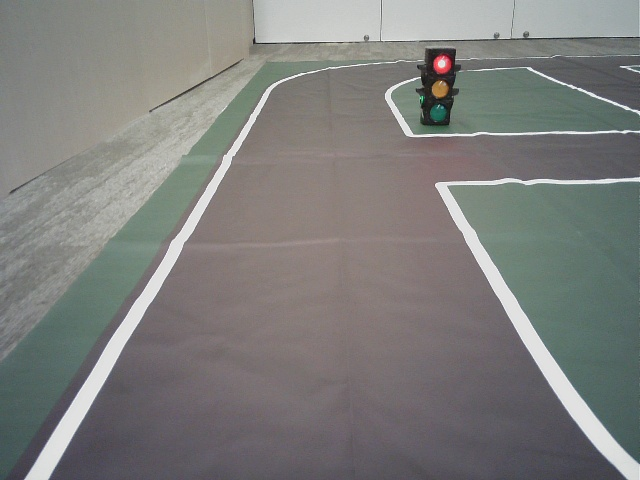red: (428, 52, 449, 123)
